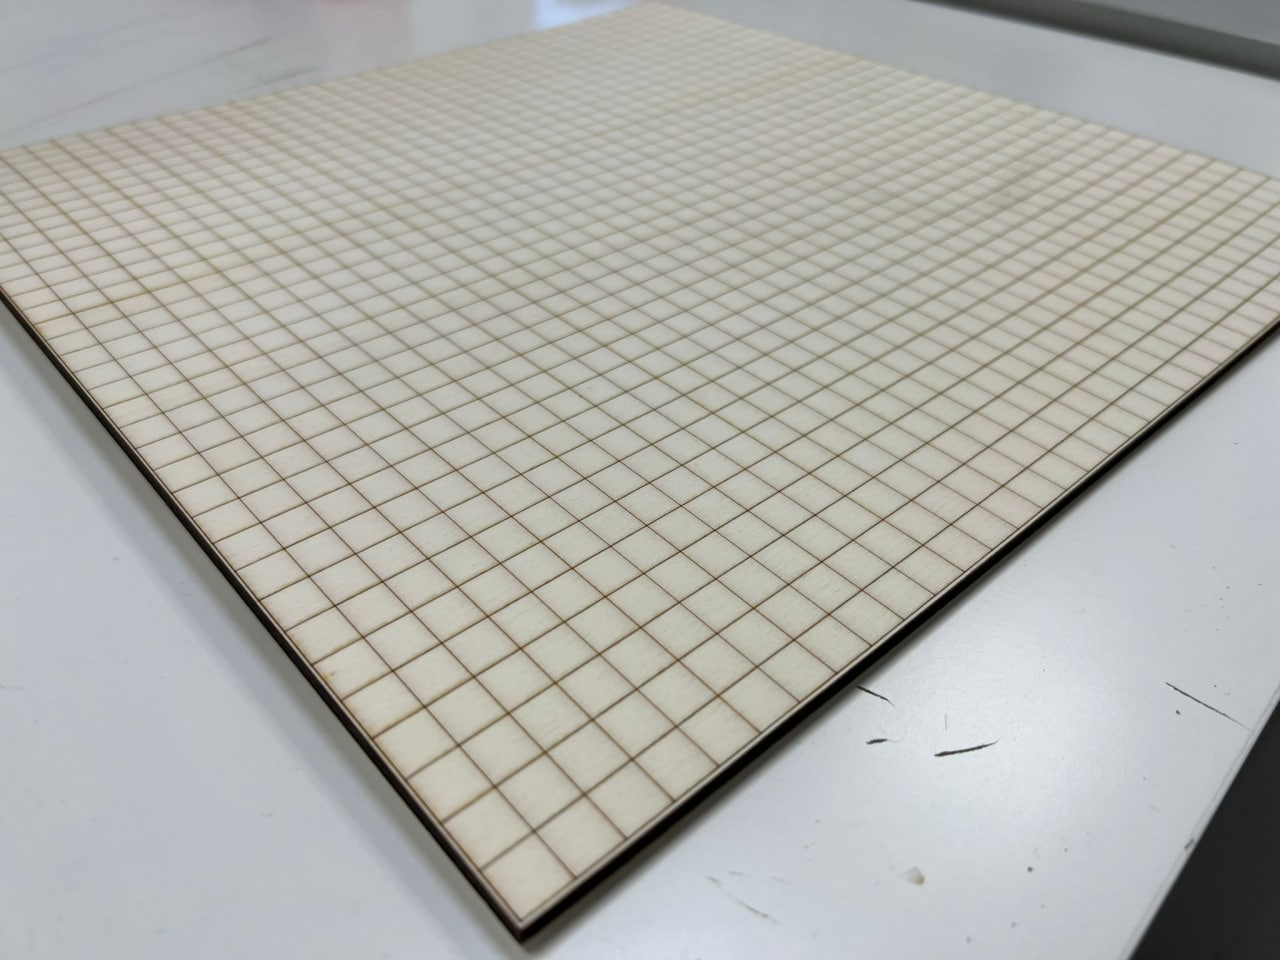grid: (1, 7, 1277, 948)
